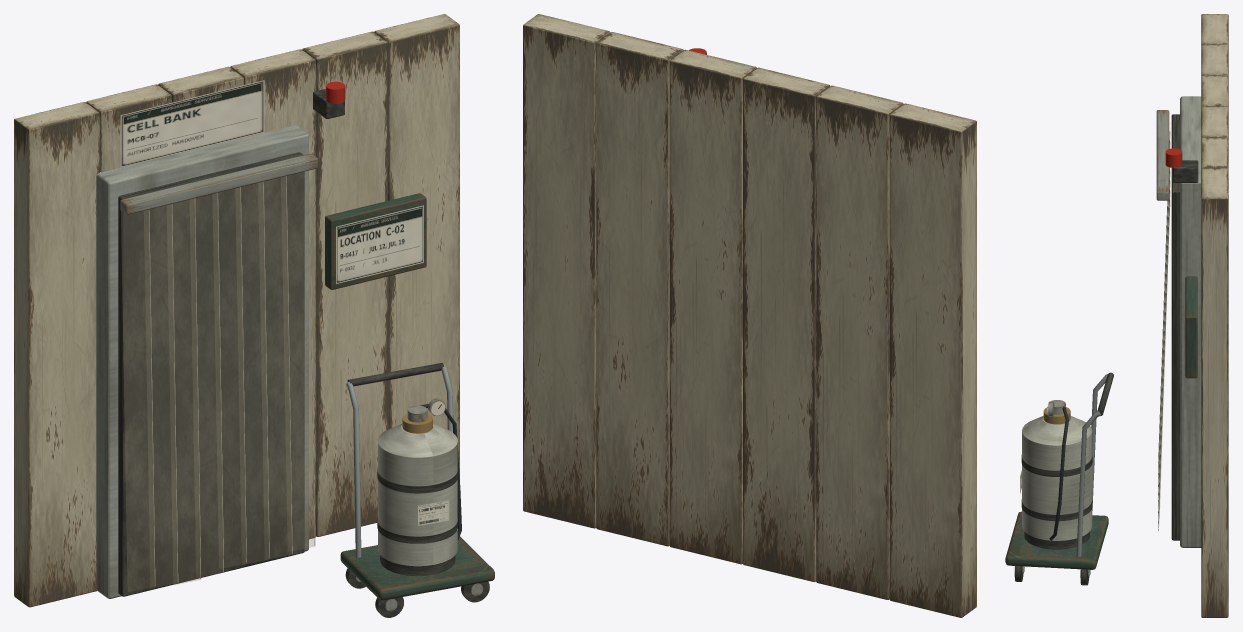
The model's file is 04_Cell_Bank_Handover.glb.
3 renders of one model, left to right at view 1: azimuth 30°, elevation 25°; view 2: azimuth 150°, elevation 25°; view 3: azimuth 270°, elevation 25°, orthographic. The views are drawn at different scales.
Visible parts, largest first — view 1: Insulated junction panel, Sealed access door, Overlapping flexible PVC, Door surround, Cell bank marking, Vacuum jacket, Slot and issue dates, Dewar handover trolley, Strip edge, Strip mounting rail, Bin location ticket rail, Domed shoulder (+7 smaller); view 2: Insulated junction panel; view 3: Insulated junction panel, Door surround, Vacuum jacket, Sealed access door, Dewar handover trolley, Domed shoulder, Bin location ticket rail, Strip edge, Strip mounting rail, Trolley upright and push rail.001, Flexible transfer hose, Dewar foot (+5 smaller).
Part boxes in pixels (left/top/right/bottom): Insulated junction panel: left=14, top=14, right=459, bottom=607; Sealed access door: left=118, top=152, right=304, bottom=596; Overlapping flexible PVC: left=121, top=171, right=314, bottom=591; Door surround: left=96, top=125, right=308, bottom=598; Cell bank marking: left=120, top=80, right=264, bottom=167; Vacuum jacket: left=378, top=442, right=457, bottom=566; Slot and issue dates: left=336, top=205, right=423, bottom=283; Dewar handover trolley: left=340, top=536, right=494, bottom=600; Strip edge: left=148, top=170, right=315, bottom=585; Strip mounting rail: left=120, top=153, right=318, bottom=214; Bin location ticket rail: left=325, top=193, right=426, bottom=289; Domed shoulder: left=378, top=423, right=457, bottom=457; Insulated junction panel: left=523, top=14, right=976, bottom=617; Insulated junction panel: left=1201, top=14, right=1228, bottom=617; Door surround: left=1180, top=96, right=1201, bottom=547; Vacuum jacket: left=1022, top=431, right=1092, bottom=540; Sealed access door: left=1171, top=114, right=1179, bottom=540; Dewar handover trolley: left=1005, top=511, right=1108, bottom=569; Domed shoulder: left=1022, top=416, right=1091, bottom=445; Bin location ticket rail: left=1185, top=276, right=1197, bottom=378; Strip edge: left=1158, top=131, right=1170, bottom=530; Strip mounting rail: left=1156, top=110, right=1169, bottom=200; Trolley upright and push rail.001: left=1076, top=411, right=1100, bottom=556; Flexible transfer hose: left=1049, top=407, right=1068, bottom=540; Dewar foot: left=1024, top=531, right=1089, bottom=549.
Bounding box in the file's own units: 2.25 × 2.38 × 1.15.
16 materials, 11 textured.
